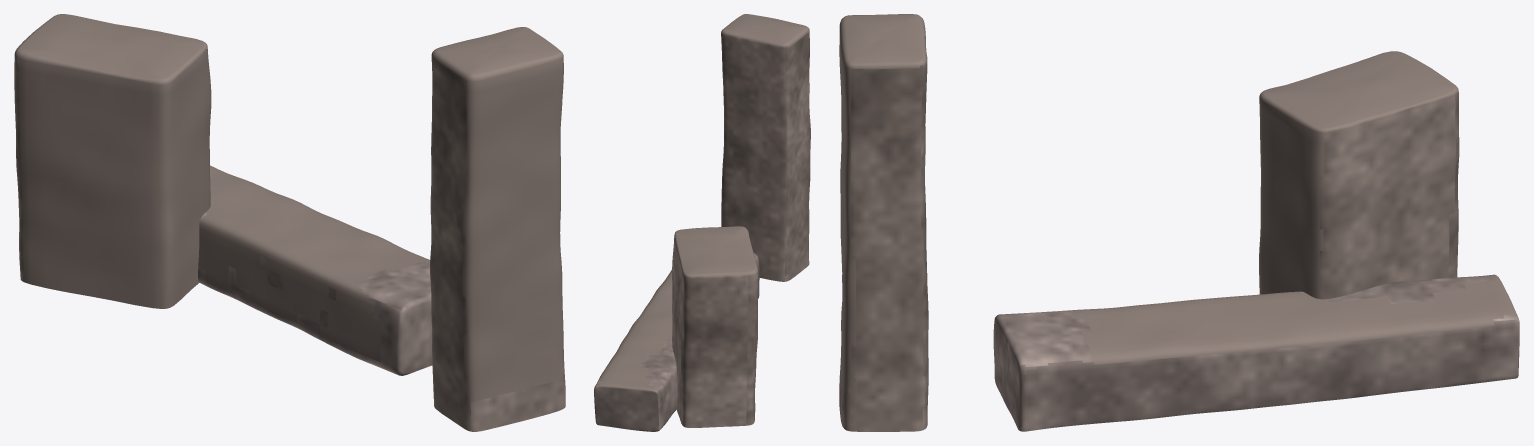
The model's file is VerHenge04.glb.
The picture shows the model from 3 angles, left to right: view 1: azimuth 30°, elevation 25°; view 2: azimuth 150°, elevation 25°; view 3: azimuth 270°, elevation 25°; orthographic projection. The views are drawn at different scales.
Parts seen in each view (by area): view 1: VerHenge04; view 2: VerHenge04; view 3: VerHenge04.
Part boxes in pixels (x1=…): VerHenge04: x1=14, y1=14, x2=565, y2=431; VerHenge04: x1=594, y1=14, x2=810, y2=431; VerHenge04: x1=839, y1=14, x2=1519, y2=431.
Size of the model in its own units: 2.9 by 3.43 by 5.72.
Materials: 2 (1 with a texture image).
